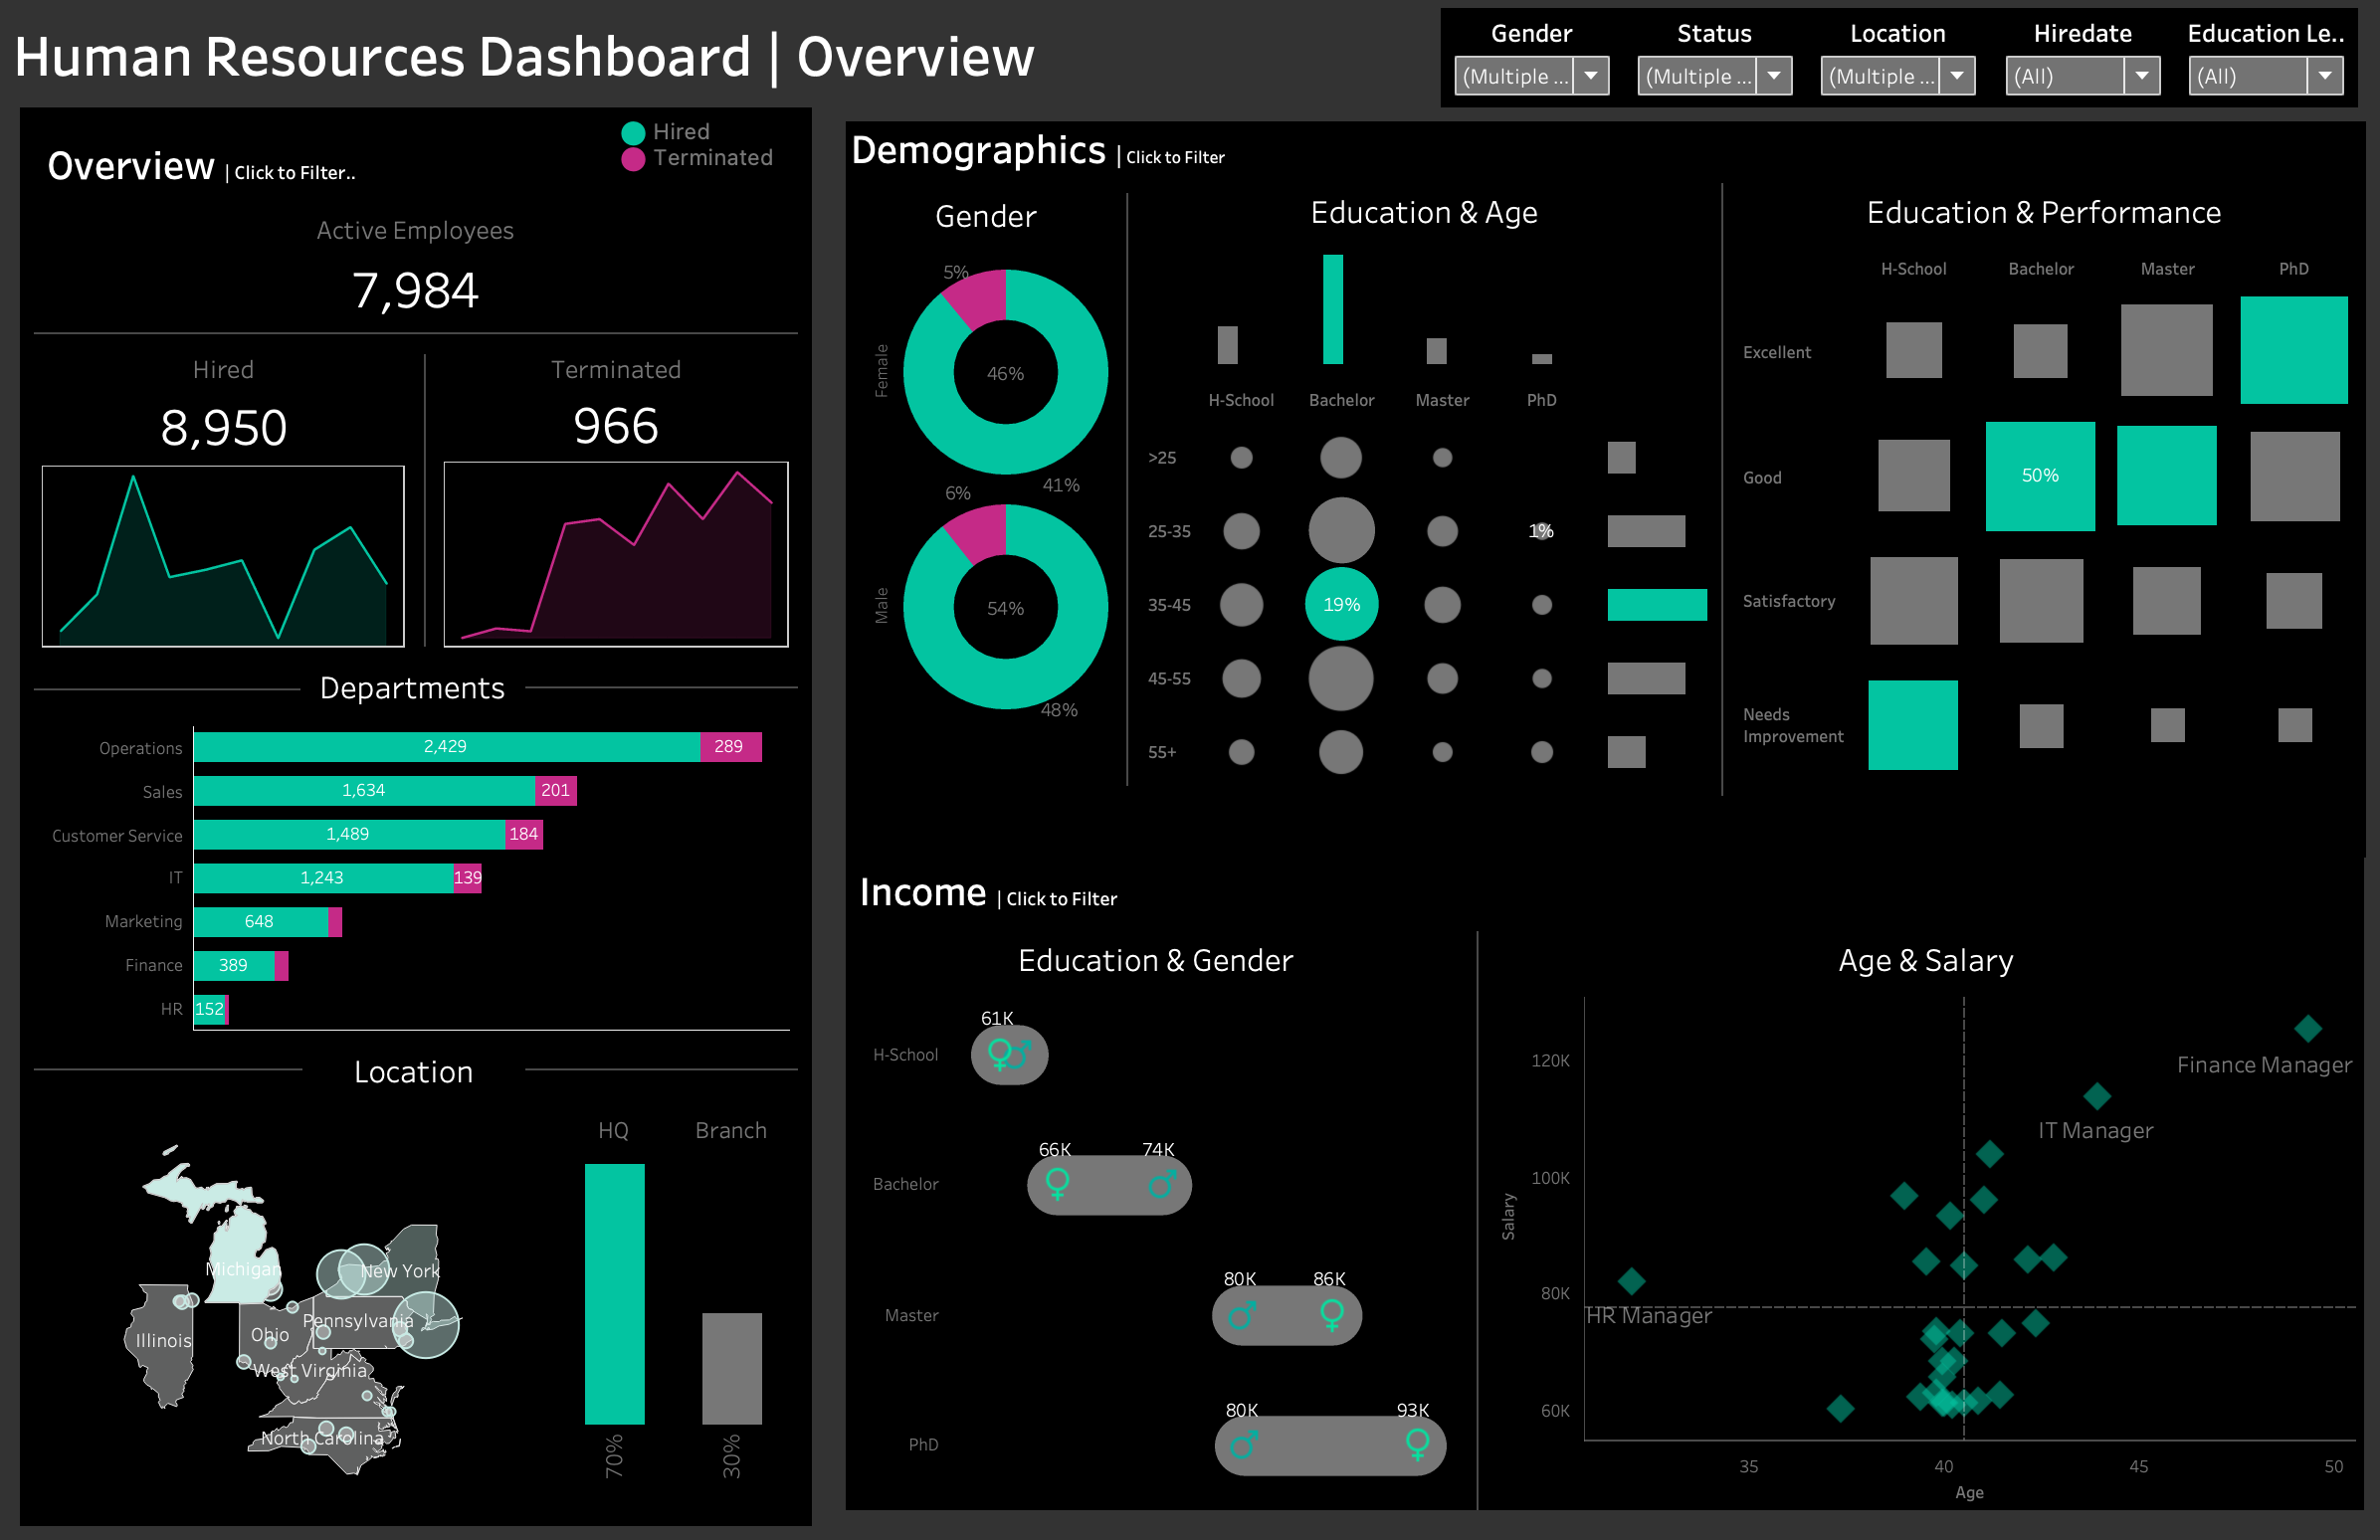

This screenshot's page, from the dashboard's own definition file:
{"tool":"tableau","page":{"name":"HR Dashboard","canvas":[1200,800],"ordinal":0},"visuals":[{"type":"text","box":[2,2,648,53]},{"type":"blank","box":[650,2,548,53]},{"type":"filter","title":"Gender Vs Education Level","param":"[federated.1e5blsa1bra2pl16xigdy1vt8mdl].[none:Gender:nk]","box":[726,5,92.2,50]},{"type":"filter","title":"Gender Vs Education Level","param":"[federated.1e5blsa1bra2pl16xigdy1vt8mdl].[none:Calculation_3139501550522515468:n","box":[818.2,5,92.2,50]},{"type":"filter","title":"Gender Vs Education Level","param":"[federated.1e5blsa1bra2pl16xigdy1vt8mdl].[none:Calculation_3139501549570932742:n","box":[910.4,5,92.2,50]},{"type":"filter","title":"Gender Vs Education Level","param":"[federated.1e5blsa1bra2pl16xigdy1vt8mdl].[yr:Hiredate:ok]","box":[1002.6,5,92.2,50]},{"type":"filter","title":"Gender Vs Education Level","param":"[federated.1e5blsa1bra2pl16xigdy1vt8mdl].[none:Education Level:nk]","box":[1094.8,5,92.2,50]},{"type":"text","box":[311,59,100,30]},{"type":"text","box":[19,62,384,42]},{"type":"text","box":[427,62,764,26]},{"type":"text","box":[427,93,141,32]},{"type":"blank","box":[568,93,1,308]},{"type":"text","box":[569,93,298,29]},{"type":"blank","box":[867,93,1,308]},{"type":"text","box":[868,93,323,29]},{"type":"text","box":[19,104,384,25]},{"type":"worksheet","title":"Education levels","mark":"Bar","rows":["Calculation_3139501549560209408"],"cols":["Education Level"],"box":[569,122,298,66]},{"type":"worksheet","title":"Education Vs Performance","mark":"Square","rows":["Performance Rating"],"cols":["Education Level"],"box":[868,122,323,279]},{"type":"worksheet","title":"Gender","mark":"Pie","rows":["Gender"],"cols":["Calculation_3139501549578924041","Calculation_3139501549578924041"],"box":[427,125,141,244]},{"type":"worksheet","title":"BAN Active","mark":"Text","box":[19,129,384,34]},{"type":"blank","box":[19,163,384,11]},{"type":"text","box":[19,174,191,25]},{"type":"blank","box":[210,174,11,157]},{"type":"text","box":[221,174,181.9,25]},{"type":"worksheet","title":"Age Vs Education","mark":"Circle","rows":["Calculation_3139501549582454795"],"cols":["Education Level"],"box":[569,188,237,213]},{"type":"worksheet","title":"Age Groups","mark":"Bar","rows":["Calculation_3139501549582454795"],"cols":["Calculation_3139501549560209408"],"box":[806,188,61,213]},{"type":"worksheet","title":"BAN Hired","mark":"Text","box":[19,199,191,32]},{"type":"worksheet","title":"BAN Terminated","mark":"Text","box":[221,199,181.9,30]},{"type":"worksheet","title":"Terminated by Year","mark":"Line","rows":["Calculation_3139501549560422401","Calculation_3139501549560422401"],"cols":["Termdate"],"box":[221,229,181.9,102]},{"type":"worksheet","title":"Hired by Year","mark":"Line","rows":["Calculation_3139501549560209408","Calculation_3139501549560209408"],"cols":["Hiredate"],"box":[19,231,191,100]},{"type":"blank","box":[19,331,134,31]},{"type":"text","box":[153,331,113,31]},{"type":"blank","box":[266,331,137,31]},{"type":"worksheet","title":"Department","mark":"Bar","rows":["Department"],"cols":["Calculation_3139501549560209408"],"box":[19,362,384,161]},{"type":"text","box":[427,432,763,32]},{"type":"text","box":[427,469,312,29]},{"type":"blank","box":[744,469,1,291]},{"type":"text","box":[750,469,440,29]},{"type":"worksheet","title":"Gender Vs Education Level","mark":"Square","rows":["Education Level"],"cols":["Salary","Salary"],"box":[427,498,312,262]},{"type":"worksheet","title":"Age Vs Salary","mark":"Shape","rows":["Salary"],"cols":["Calculation_3139501549582082058"],"box":[750,498,440,262]},{"type":"blank","box":[19,523,135,32]},{"type":"text","box":[154,523,112.4,32]},{"type":"blank","box":[266.4,523,136.6,32]},{"type":"worksheet","title":"Map States","mark":"Automatic","box":[19,555,258.2,206]},{"type":"worksheet","title":"Location","mark":"Bar","rows":["Calculation_3139501549560209408"],"cols":["Calculation_3139501549570932742","Calculation1"],"box":[277.2,555,125.8,206]}]}

Visuals, with their boxes on the page's 1200x800 design canvas (x1, y1, x2, y2). These are canvas units, not pixel positions in the 2380x1540 screenshot, which may show the page scaled, cropped or inside an application window:
text: [2,2,650,55]
blank: [650,2,1198,55]
"Gender Vs Education Level" filter: [726,5,818,55]
"Gender Vs Education Level" filter: [818,5,910,55]
"Gender Vs Education Level" filter: [910,5,1003,55]
"Gender Vs Education Level" filter: [1003,5,1095,55]
"Gender Vs Education Level" filter: [1095,5,1187,55]
text: [311,59,411,89]
text: [19,62,403,104]
text: [427,62,1191,88]
text: [427,93,568,125]
blank: [568,93,569,401]
text: [569,93,867,122]
blank: [867,93,868,401]
text: [868,93,1191,122]
text: [19,104,403,129]
"Education levels" worksheet (Bar marks): [569,122,867,188]
"Education Vs Performance" worksheet (Square marks): [868,122,1191,401]
"Gender" worksheet (Pie marks): [427,125,568,369]
"BAN Active" worksheet (Text marks): [19,129,403,163]
blank: [19,163,403,174]
text: [19,174,210,199]
blank: [210,174,221,331]
text: [221,174,403,199]
"Age Vs Education" worksheet (Circle marks): [569,188,806,401]
"Age Groups" worksheet (Bar marks): [806,188,867,401]
"BAN Hired" worksheet (Text marks): [19,199,210,231]
"BAN Terminated" worksheet (Text marks): [221,199,403,229]
"Terminated by Year" worksheet (Line marks): [221,229,403,331]
"Hired by Year" worksheet (Line marks): [19,231,210,331]
blank: [19,331,153,362]
text: [153,331,266,362]
blank: [266,331,403,362]
"Department" worksheet (Bar marks): [19,362,403,523]
text: [427,432,1190,464]
text: [427,469,739,498]
blank: [744,469,745,760]
text: [750,469,1190,498]
"Gender Vs Education Level" worksheet (Square marks): [427,498,739,760]
"Age Vs Salary" worksheet (Shape marks): [750,498,1190,760]
blank: [19,523,154,555]
text: [154,523,266,555]
blank: [266,523,403,555]
"Map States" worksheet: [19,555,277,761]
"Location" worksheet (Bar marks): [277,555,403,761]
